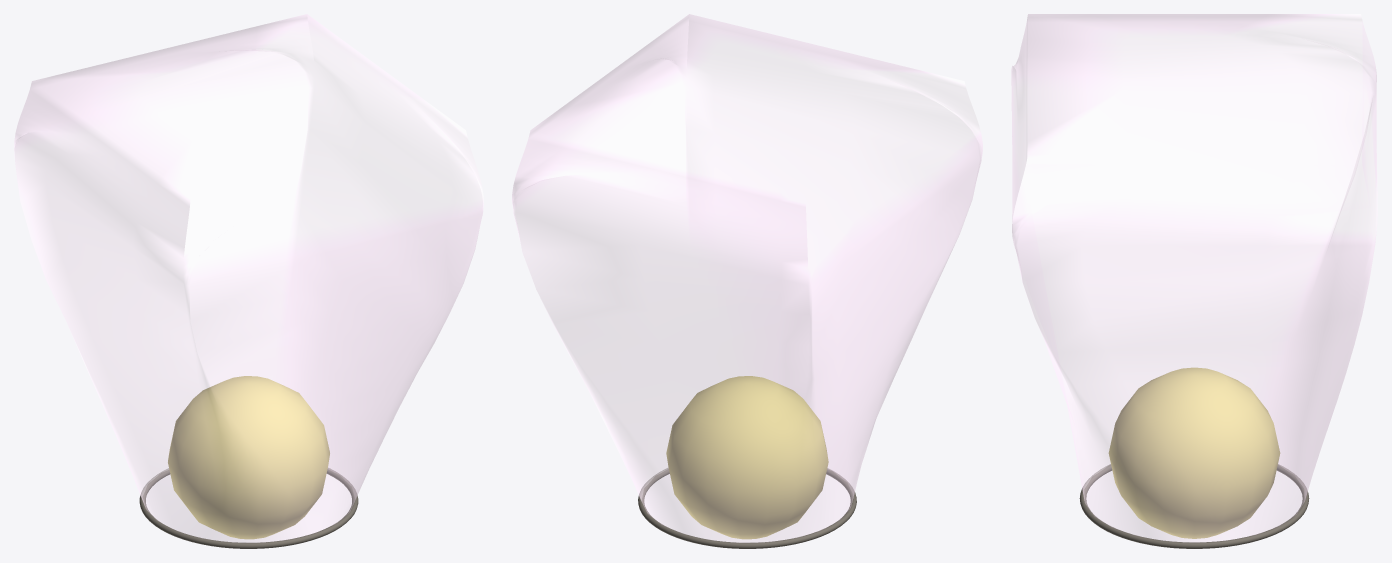
File: Lantern (2).gltf
3 renders of one model, left to right at view 1: azimuth 30°, elevation 25°; view 2: azimuth 150°, elevation 25°; view 3: azimuth 270°, elevation 25°, orthographic. The views are drawn at different scales.
Parts seen in each view (by area): view 1: Loft.1, Sphere, Torus; view 2: Loft.1, Sphere, Torus; view 3: Loft.1, Sphere, Torus.
Part boxes in pixels (<box>): Loft.1: <box>14,14,483,542</box>; Sphere: <box>168,376,329,539</box>; Torus: <box>139,468,358,548</box>; Loft.1: <box>512,14,982,542</box>; Sphere: <box>666,376,828,539</box>; Torus: <box>638,468,856,548</box>; Loft.1: <box>1011,14,1377,542</box>; Sphere: <box>1108,367,1280,538</box>; Torus: <box>1079,464,1309,548</box>.
Size of the model in its own units: 404 by 590 by 405.
